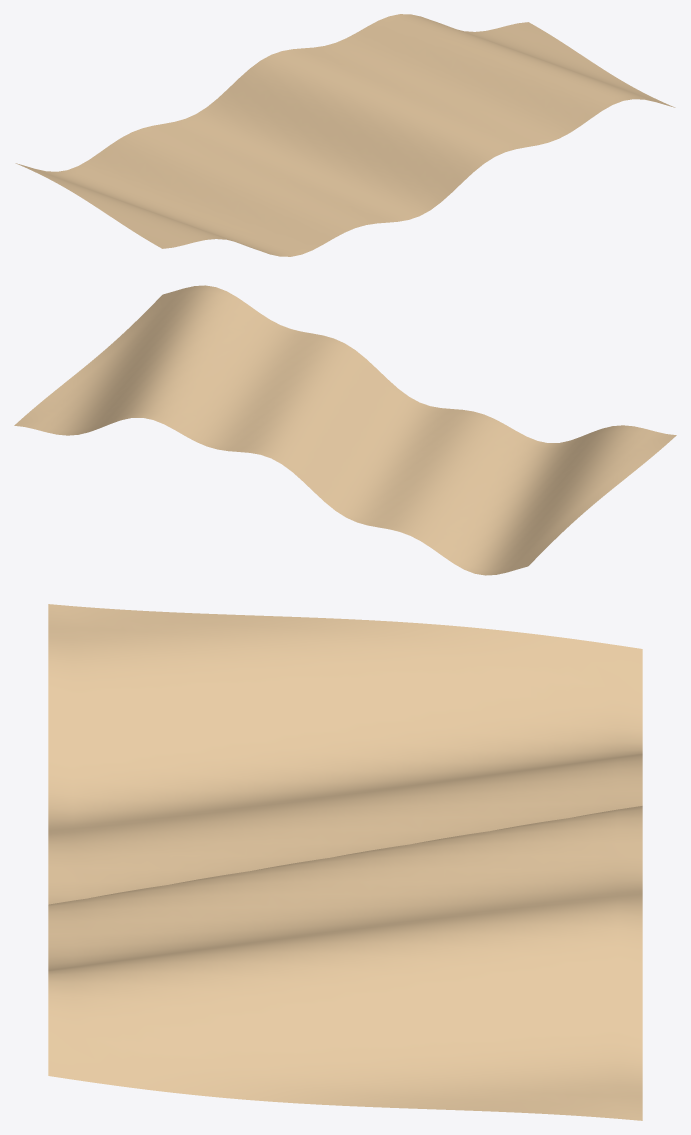
The model's file is dune-sand.glb.
3 views of the same model, one above another, from view 1: azimuth 30°, elevation 25°; view 2: azimuth 150°, elevation 25°; view 3: azimuth 270°, elevation 25° (orthographic). The views are drawn at different scales.
Visible parts, largest first — view 1: Rippled_dune; view 2: Rippled_dune; view 3: Rippled_dune.
Part boxes in pixels (bbox=[...]): Rippled_dune: bbox=[15, 14, 675, 256]; Rippled_dune: bbox=[14, 285, 676, 575]; Rippled_dune: bbox=[48, 604, 642, 1120].
Size of the model in its own units: 12 by 1.75 by 6.
